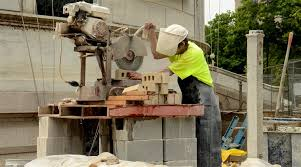hard hat: (166, 23, 188, 49)
